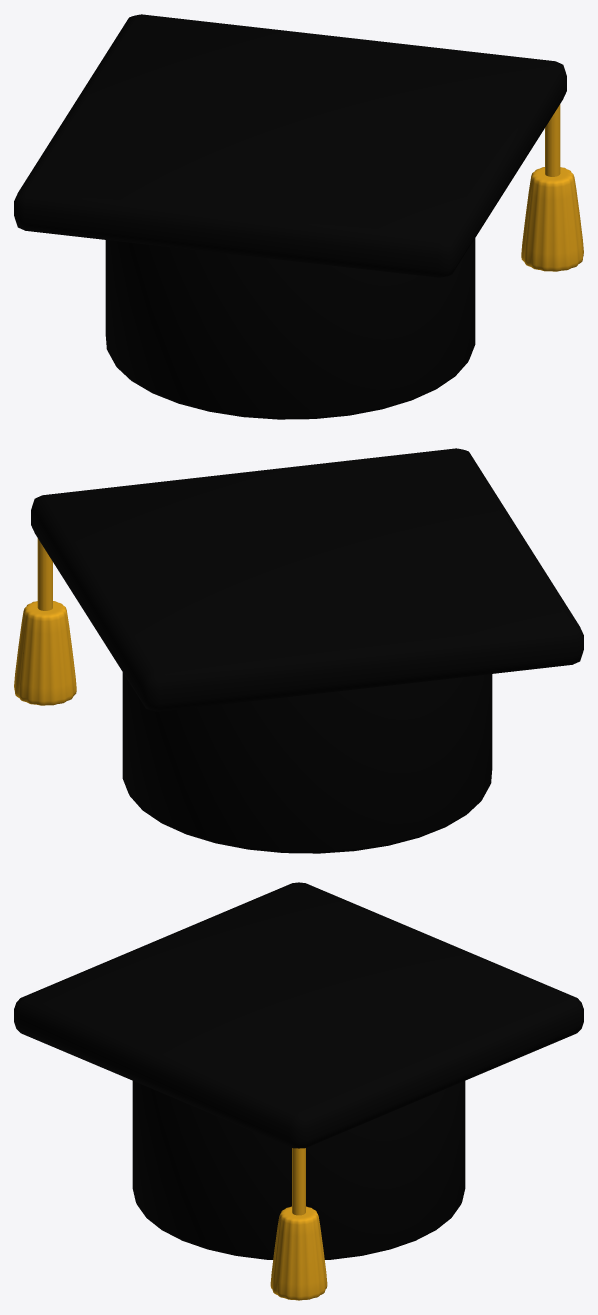
Rendered from toga.glb.
The picture shows the model from 3 angles, top to bottom: view 1: azimuth 30°, elevation 25°; view 2: azimuth 150°, elevation 25°; view 3: azimuth 270°, elevation 25°; orthographic projection. The views are drawn at different scales.
Visible parts, largest first — view 1: 0001; view 2: 0001; view 3: 0001.
Part boxes in pixels (x1=…): 0001: x1=14, y1=14, x2=583, y2=419; 0001: x1=14, y1=448, x2=583, y2=853; 0001: x1=14, y1=882, x2=583, y2=1300.
Size of the model in its own units: 2.27 by 0.8366 by 2.21.
